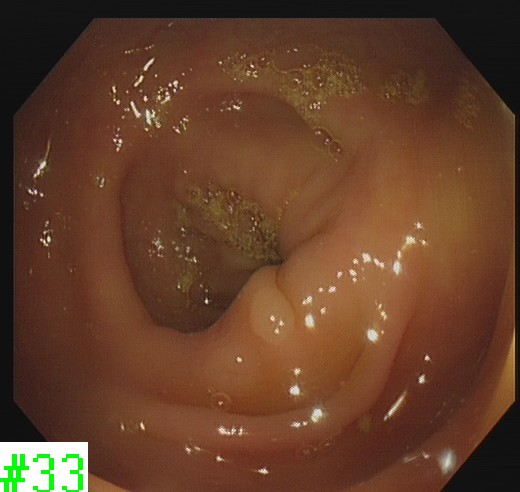others: (245, 284, 301, 349)
